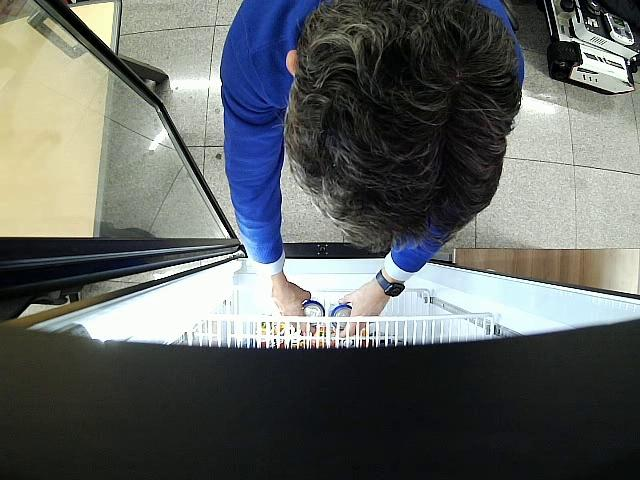00_hand: (332, 286, 386, 338), (271, 278, 316, 333)
13_pocariSweat: (302, 300, 325, 327), (329, 305, 352, 329)
